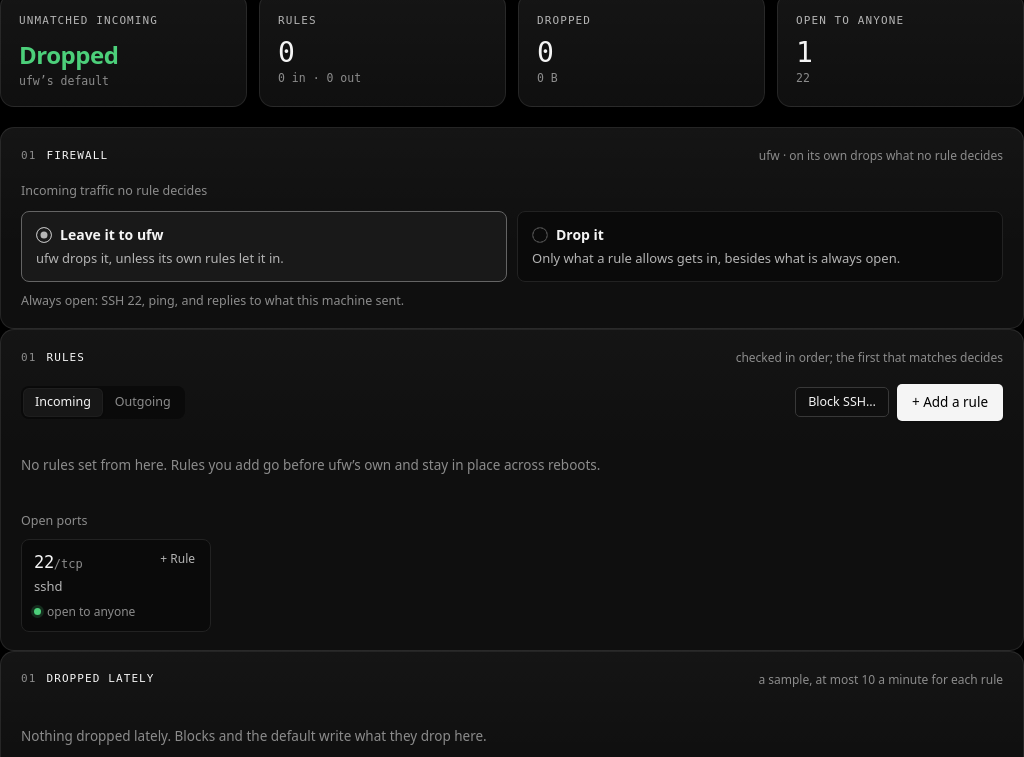
Test: Firewall manager › keeps the Keep/Undo banner when a read sent before the change answers after it
The width and height of the screenshot is (1024, 757).
Click the button with aria-label "Add a rule for 22/tcp". click: (178, 559)
box: [153,548,202,570]
Wait 15000 ms
(page scrolled)
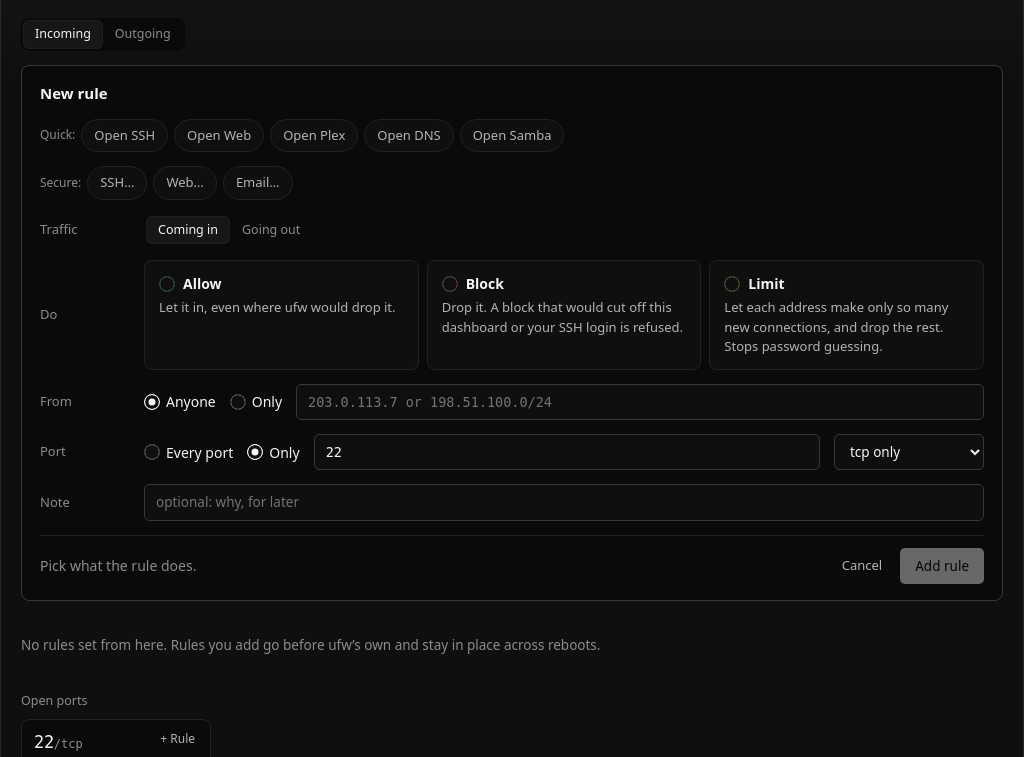
Click the radio button labelled "Allow Let it in, even where ufw would drop it.". click: (281, 315)
box: [144,260,419,370]
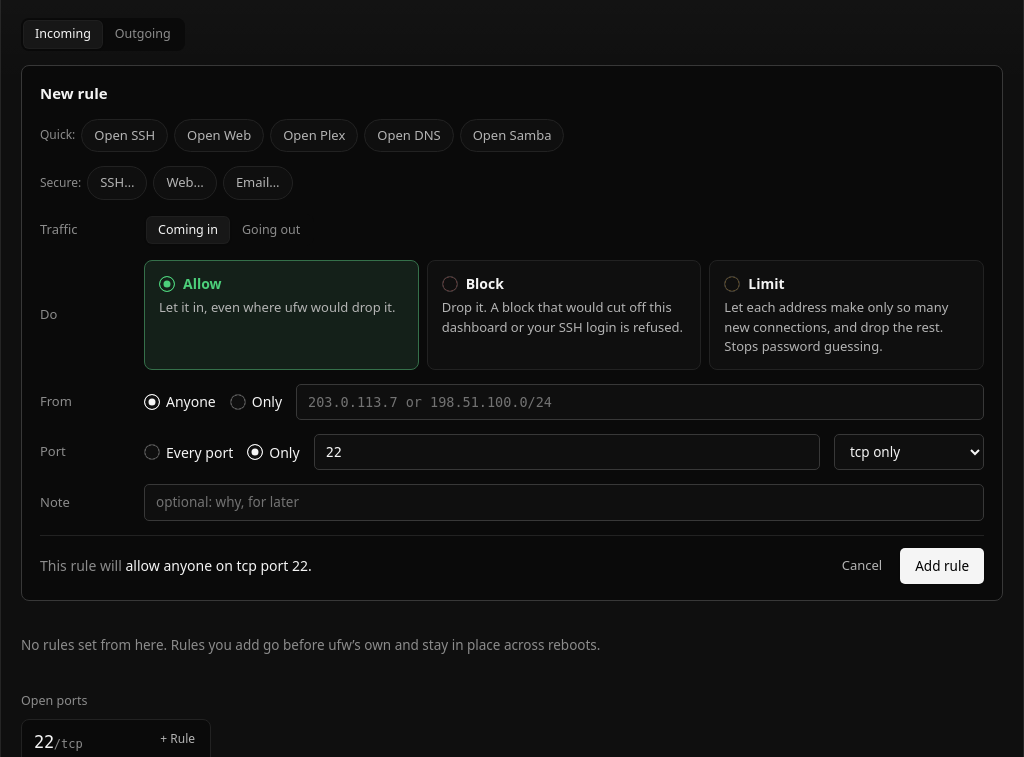
Click the submit button. click: (942, 566)
box: [900,548,984,584]
(page scrolled)
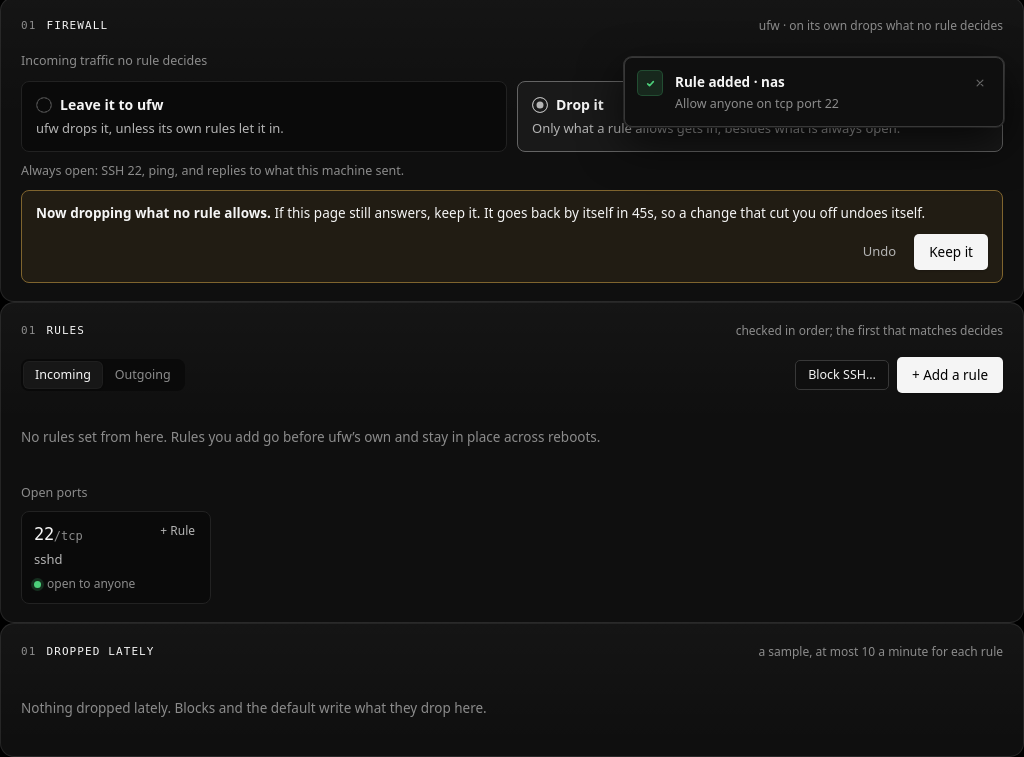
Check: the text "If this page still answers, keep it" is shown, box [271,204,628,222]
